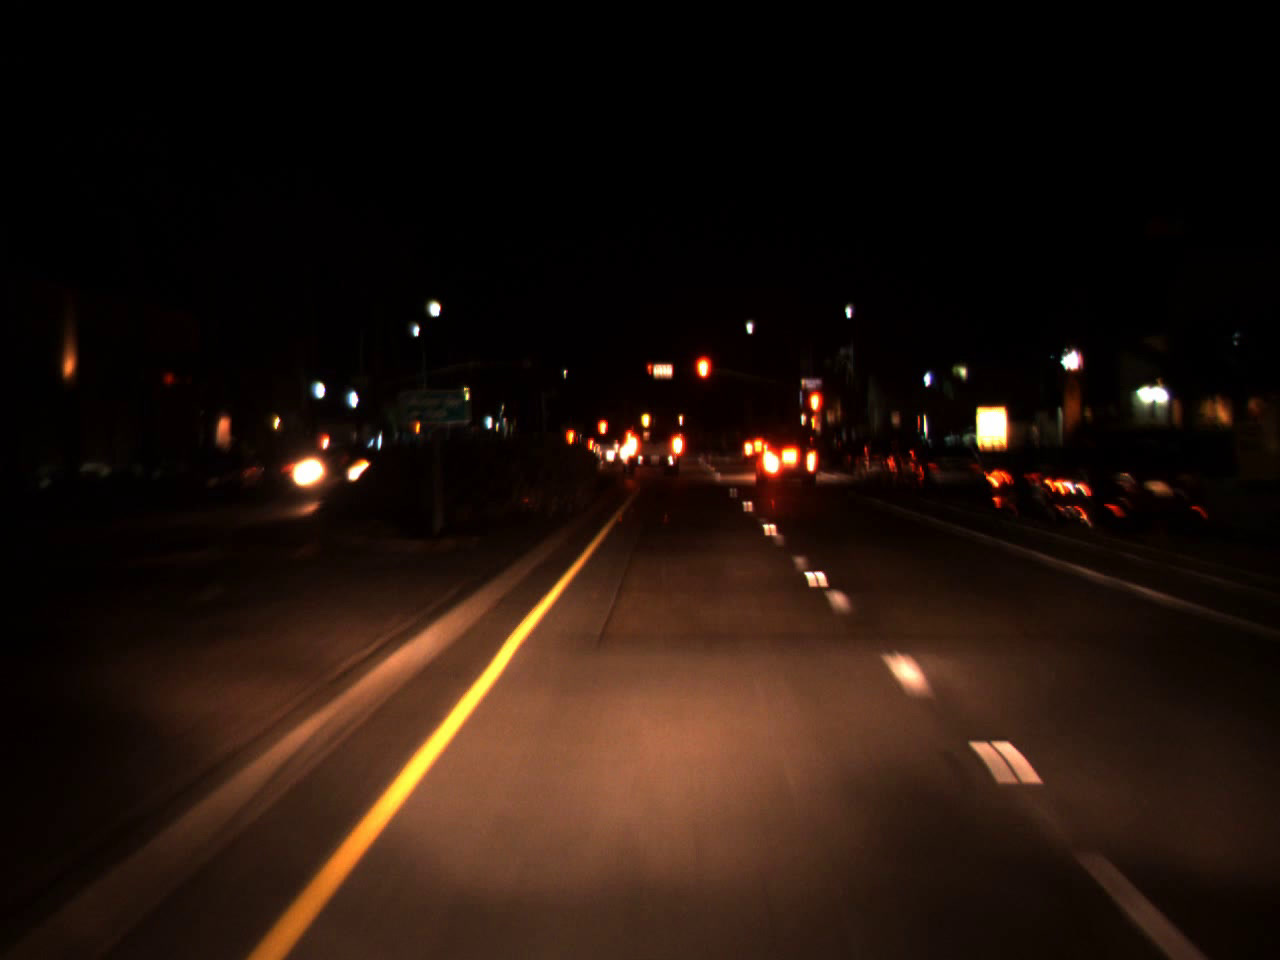stop: (693, 353, 714, 407), (807, 387, 825, 441), (645, 362, 652, 380)
